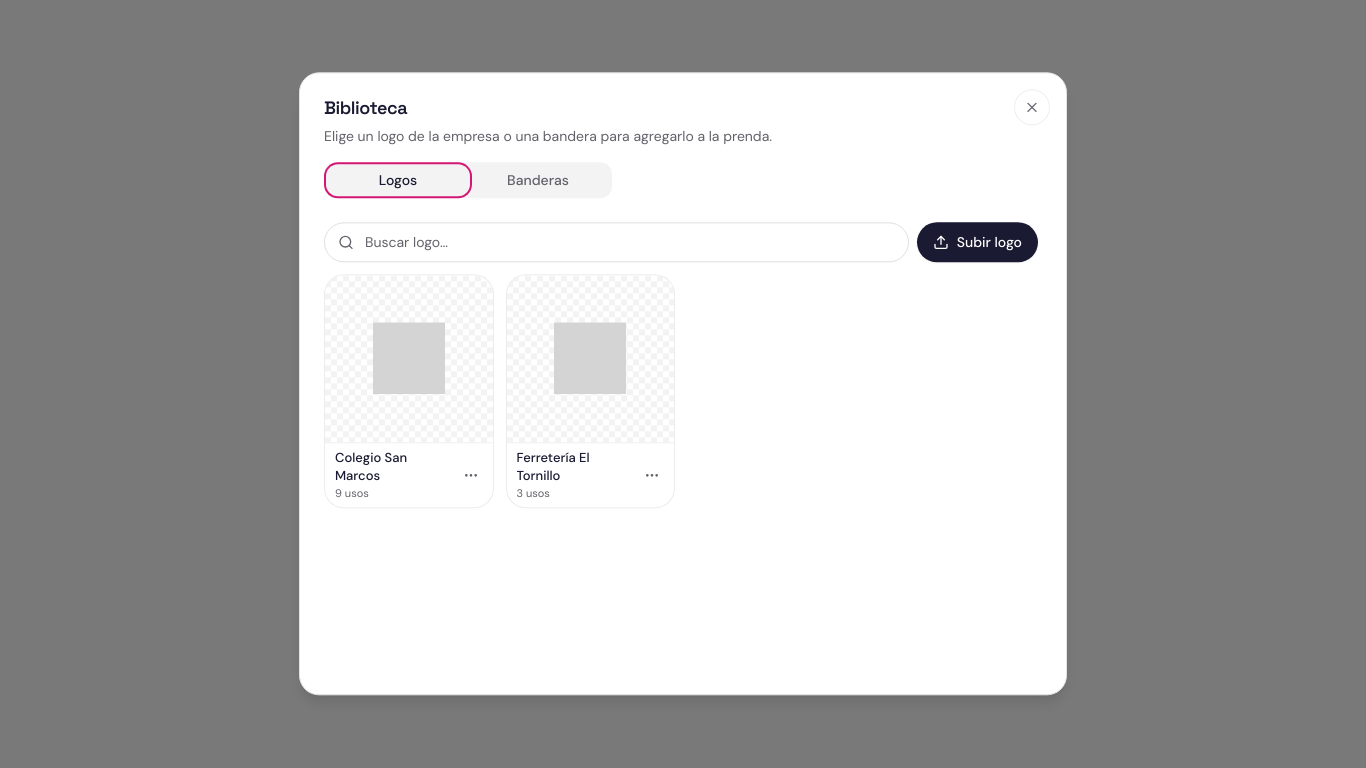
Scenario: Biblioteca · Logos › busca por nombre sin acentos
expect the list named "Logos de la empresa" is shown: met, box x1=324 y1=274 x2=675 y2=509
Type "ferreteria" into the search field labelled "Buscar logo" at {"x": 616, "y": 242}, box x1=324 y1=222 x2=909 y2=262
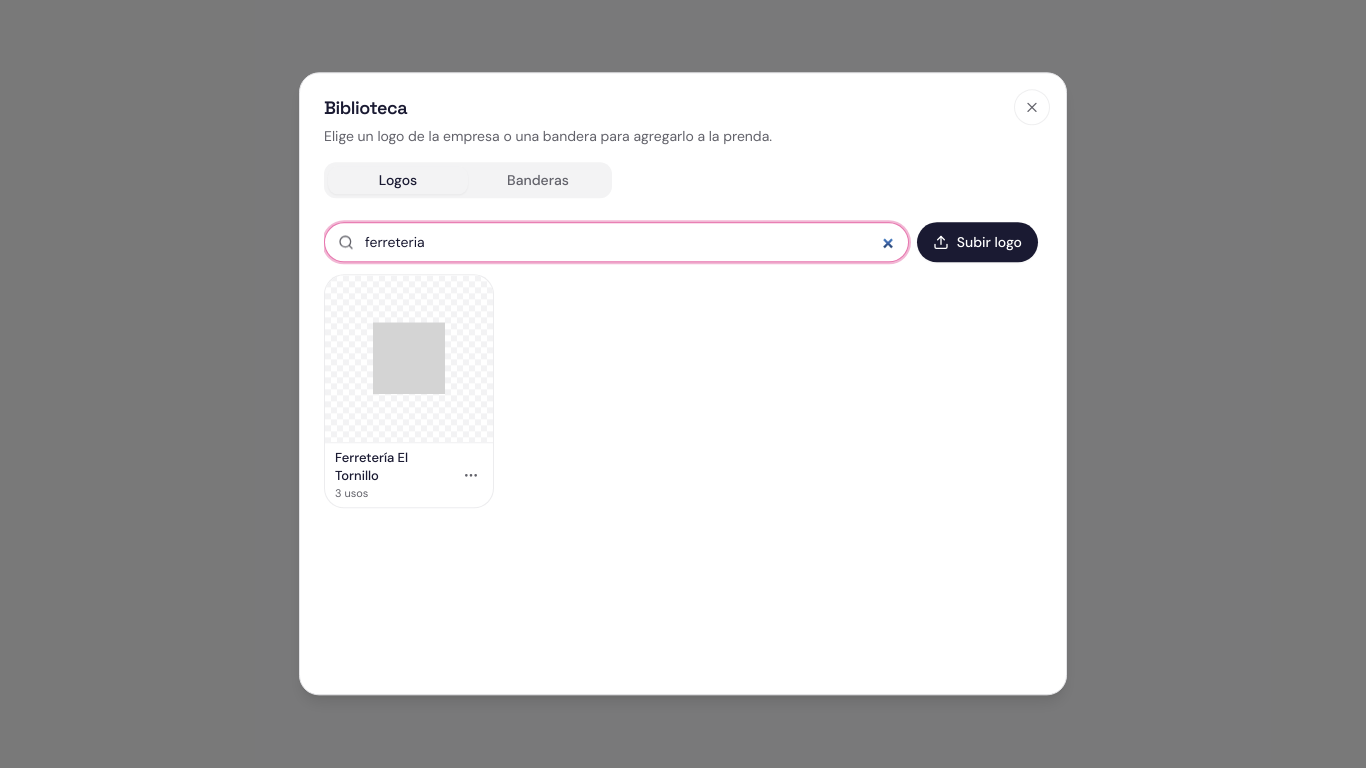
expect the number of list items is 1: met, box x1=324 y1=274 x2=494 y2=509
Replace the text in the search field named "Buscar logo" with "xyz" at {"x": 616, "y": 242}, box x1=324 y1=222 x2=909 y2=262
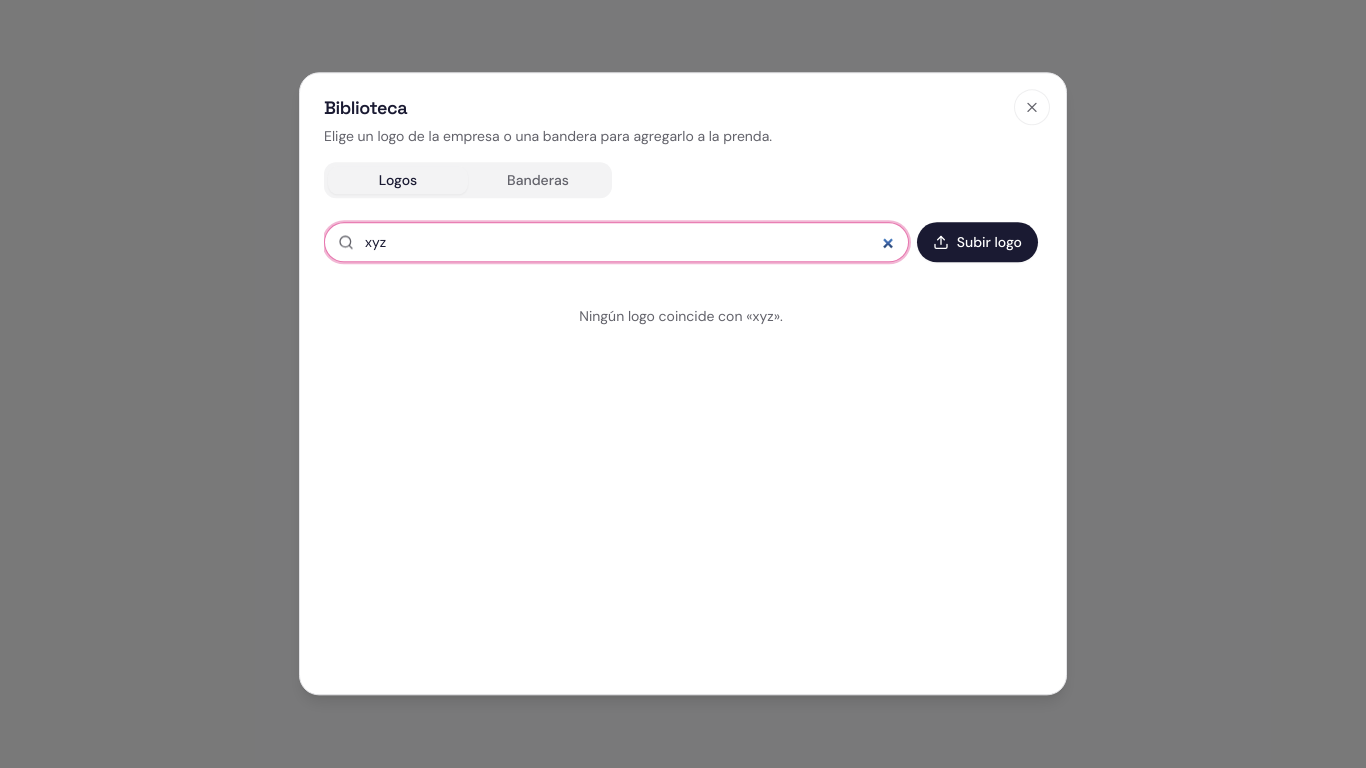
expect the text "Ningún logo coincide con «xyz»." is shown: met, box x1=579 y1=307 x2=783 y2=325
